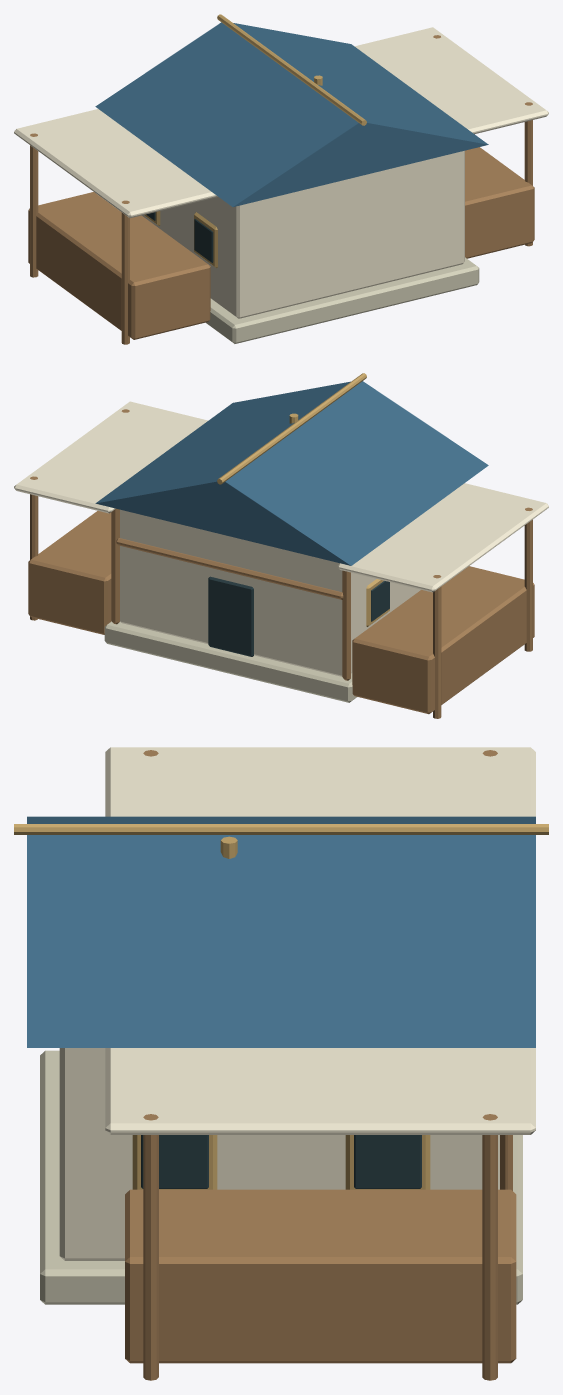
File: level_06.glb
3 views of the same model, one above another, from view 1: azimuth 30°, elevation 25°; view 2: azimuth 150°, elevation 25°; view 3: azimuth 270°, elevation 25° (orthographic). The views are drawn at different scales.
Parts seen in each view (by area): view 1: market — level 06; view 2: market — level 06; view 3: market — level 06.
Part boxes in pixels (left/top/right/bottom): market — level 06: left=14, top=14, right=548, bottom=344; market — level 06: left=14, top=373, right=548, bottom=718; market — level 06: left=14, top=747, right=548, bottom=1380.
Size of the model in its own units: 6.9 by 3.14 by 4.1.
